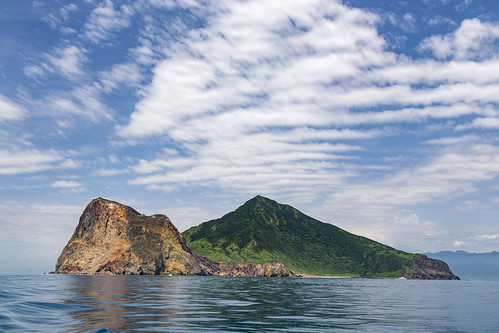turtleIslandLeft: (50, 190, 462, 286)
